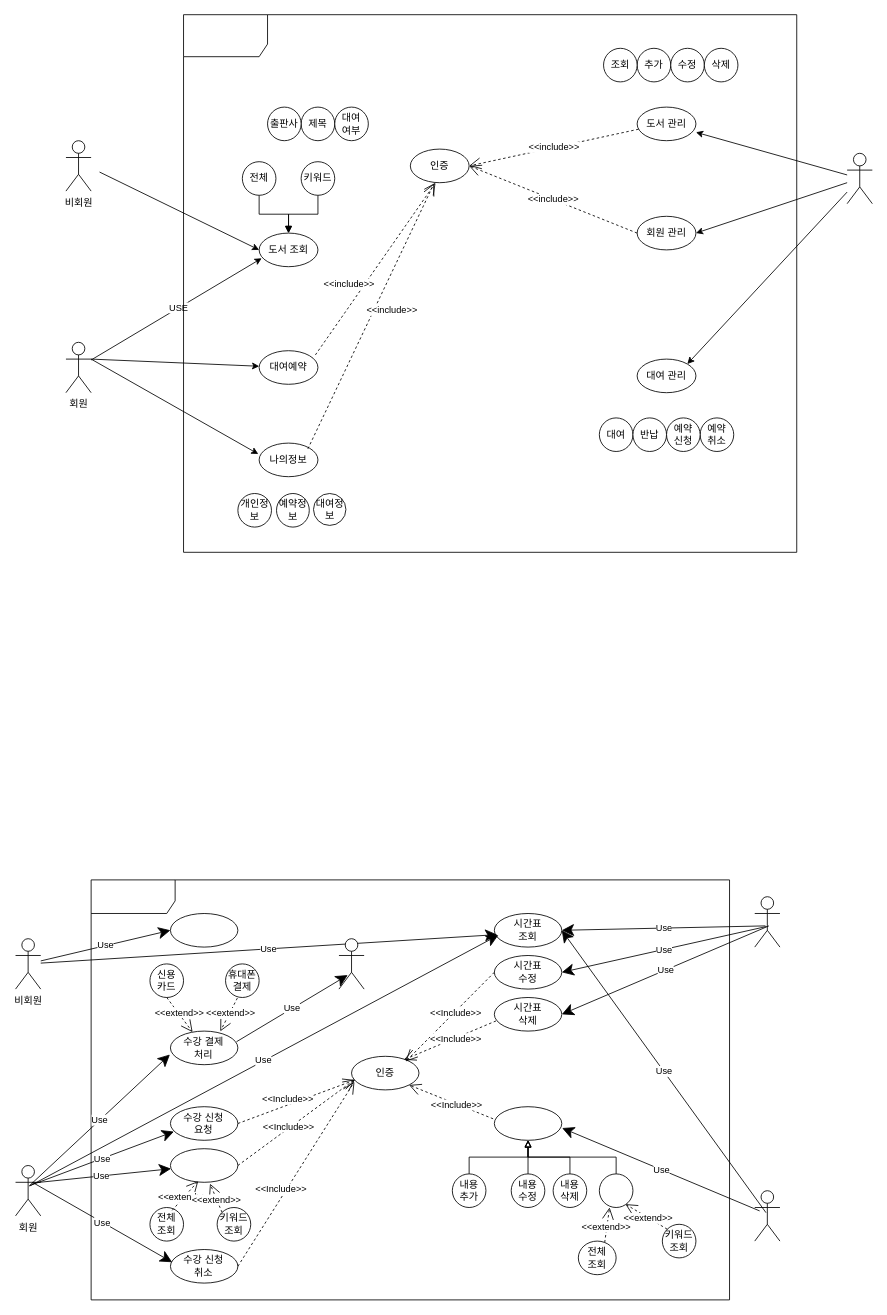
This 887x1315 diagram has some shape labels left out. Each missing label, with the box of its shape:
LMS 시스템: (90, 879, 730, 1300)
강의 관리: (494, 1106, 562, 1140)
결제 대행 시스템: (338, 938, 364, 989)
관리자: (754, 896, 780, 947)
교수: (754, 1190, 780, 1241)
내용 조회: (598, 1173, 633, 1208)
도서관리시스템: (183, 14, 797, 552)
사서: (846, 152, 872, 204)
수강 신청 조회: (170, 1148, 238, 1182)
회원가입: (170, 913, 238, 947)
